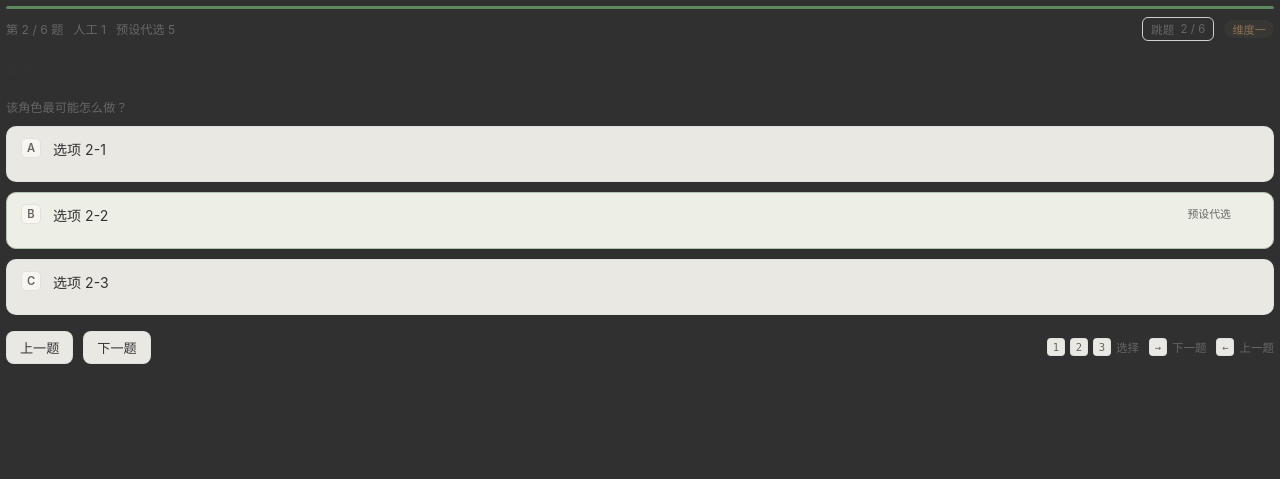
Test: PtwQuizPanel › 快速跳题同时标明人工、预设和当前题
The image size is (1280, 479).
Click the button "跳题 2 / 6".
click(1178, 29)  # box [1142,17,1214,41]
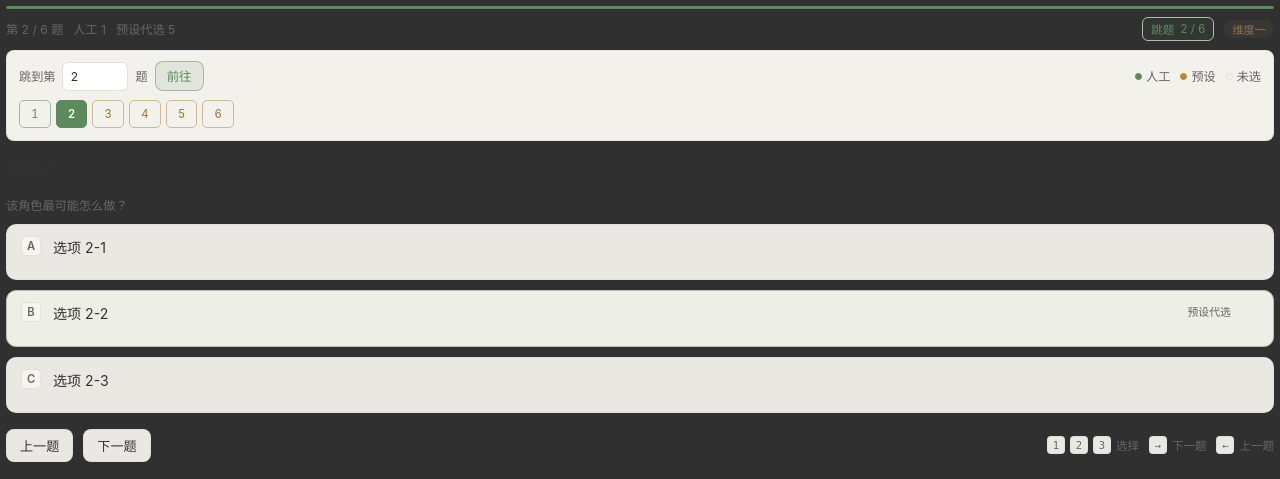
Replace the text in the number field labelled "跳到第" with "5" at (96, 76), box [62,62,128,90]
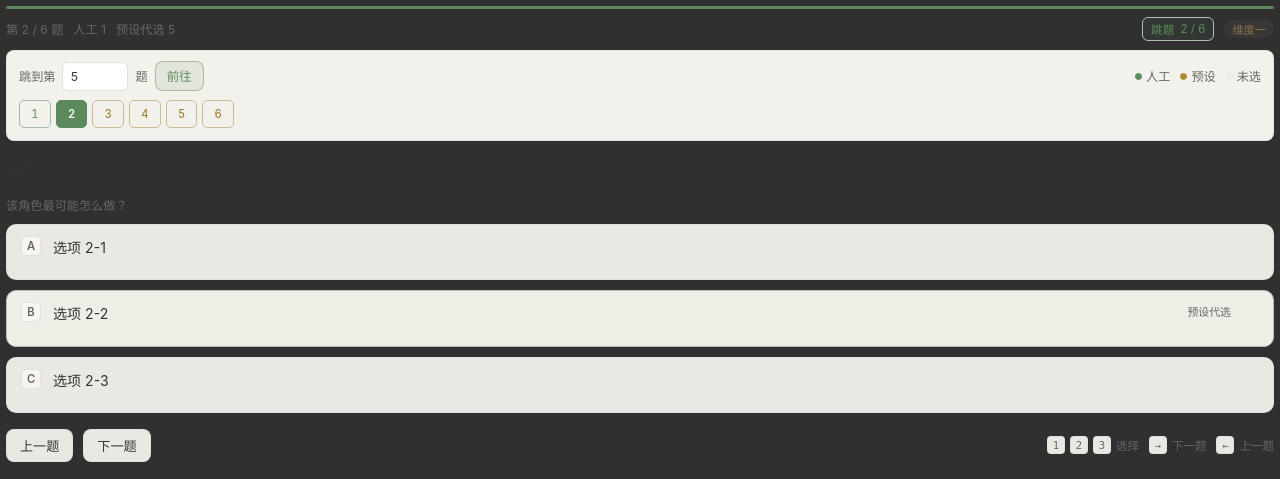
Submit the form, box [19,61,1261,91]
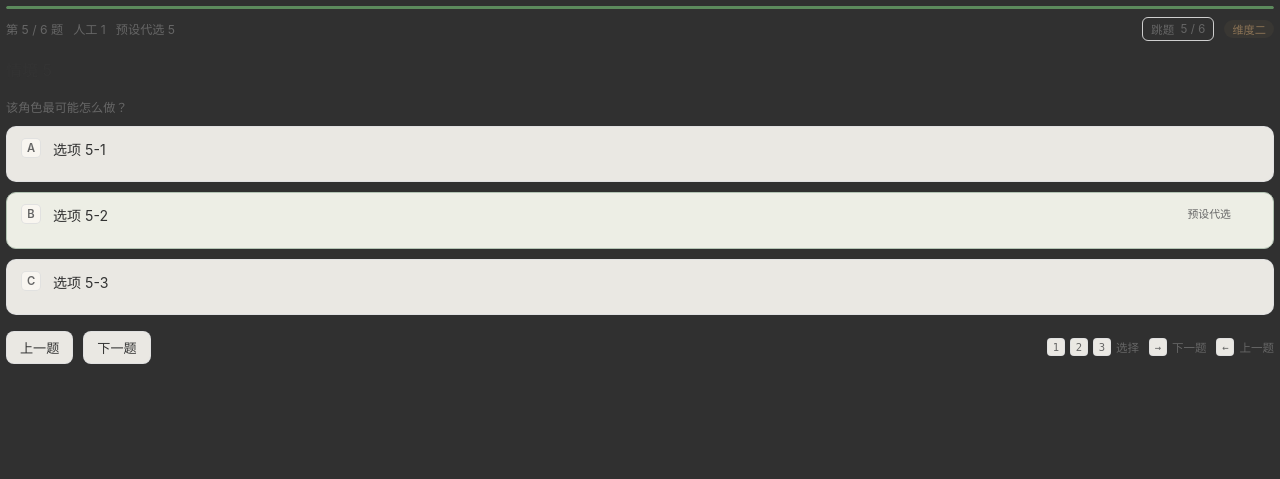
Result: the element showing "第 5 / 6 题 人工 1 预设代选 5 跳题 5 / 6 维度二" is shown at [6,17,1274,41]
